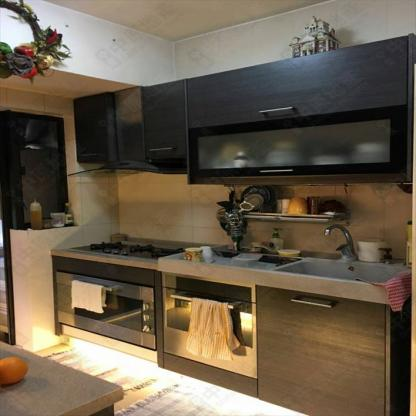Cupboard: (184, 34, 409, 186), (256, 284, 385, 414)
Exhaust Hood: (68, 87, 190, 176)
Oven: (57, 270, 259, 379)
Stove: (57, 239, 185, 262)
